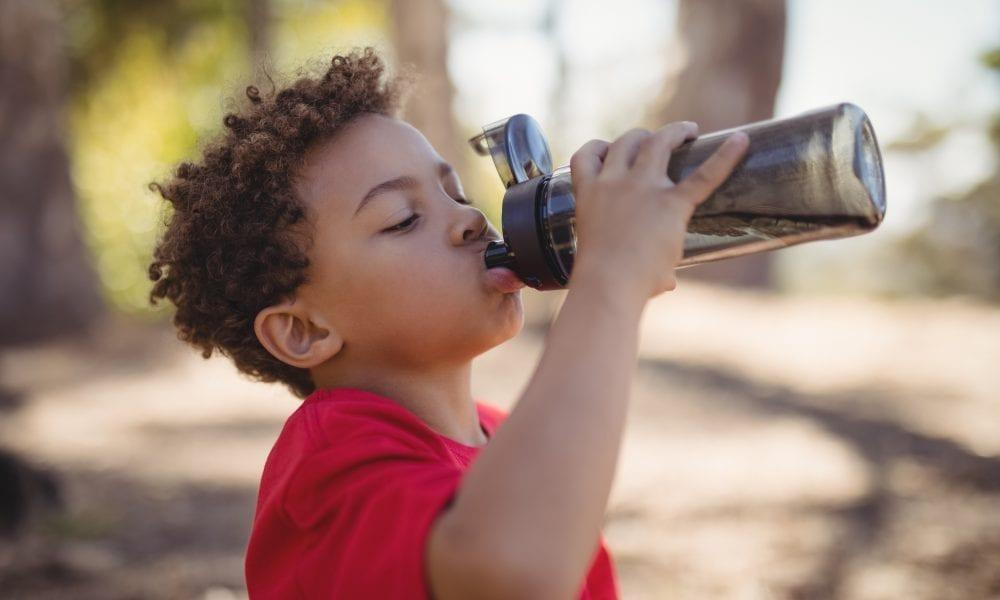gym bottle: (479, 101, 885, 294)
